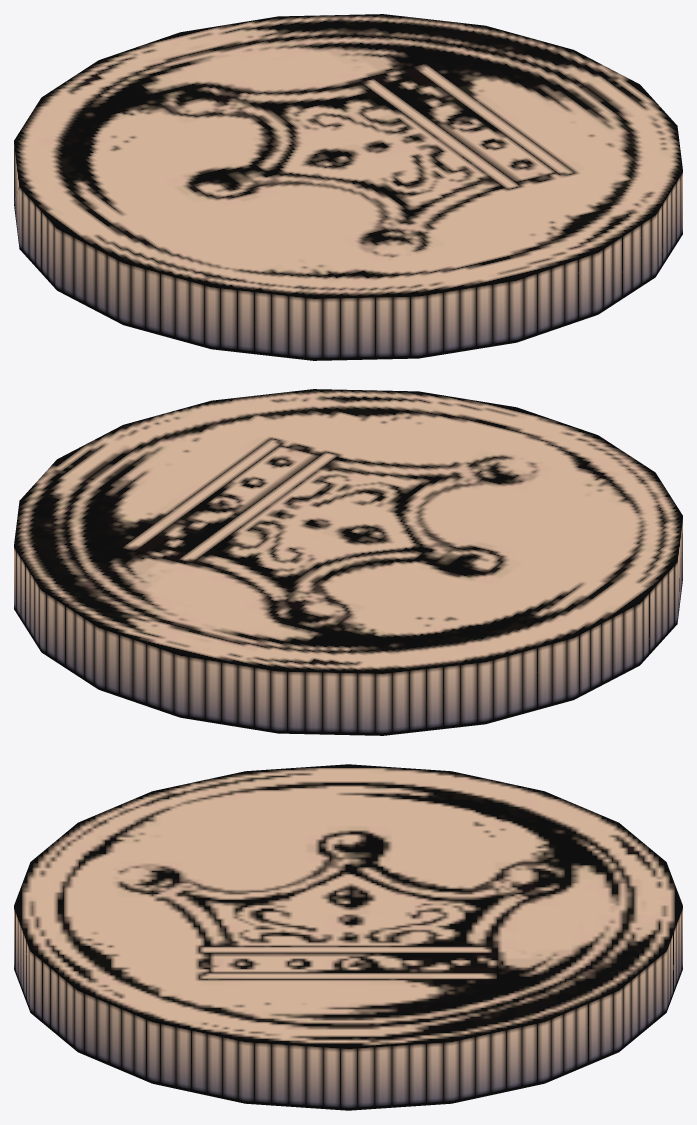
File: bl080e-color.glb
3 renders of one model, top to bottom at view 1: azimuth 30°, elevation 25°; view 2: azimuth 150°, elevation 25°; view 3: azimuth 270°, elevation 25°, orthographic.
Parts seen in each view (by area): view 1: role_0; view 2: role_0; view 3: role_0.
Boxes of the visible parts, <box> form: role_0: <box>14,14,682,360</box>; role_0: <box>14,389,682,735</box>; role_0: <box>14,764,682,1110</box>.
Bounding box in the file's own units: 0.0895 × 0.0094 × 0.0895.
1 material, 1 textured.
